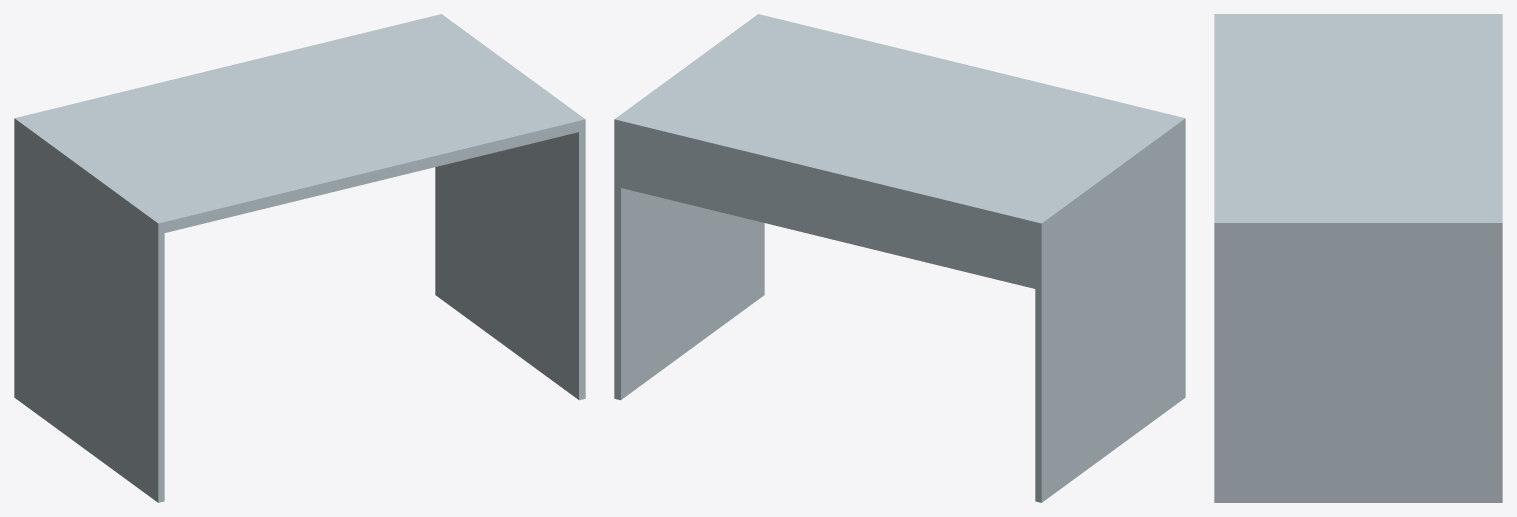
The model's file is assembly.glb.
The picture shows the model from 3 angles, left to right: view 1: azimuth 30°, elevation 25°; view 2: azimuth 150°, elevation 25°; view 3: azimuth 270°, elevation 25°; orthographic projection.
Parts seen in each view (by area): view 1: sobre, lateral_izquierdo, lateral_derecho; view 2: sobre, lateral_izquierdo, faldon_posterior, lateral_derecho; view 3: lateral_derecho, sobre.
Boxes of the visible parts, x1=… form: sobre: x1=14, y1=14, x2=585, y2=234; lateral_izquierdo: x1=14, y1=129, x2=164, y2=502; lateral_derecho: x1=435, y1=130, x2=585, y2=400; sobre: x1=614, y1=14, x2=1185, y2=234; lateral_izquierdo: x1=1035, y1=129, x2=1185, y2=502; faldon_posterior: x1=621, y1=132, x2=1035, y2=288; lateral_derecho: x1=614, y1=130, x2=764, y2=400; lateral_derecho: x1=1214, y1=234, x2=1502, y2=502; sobre: x1=1214, y1=14, x2=1502, y2=233.
Size of the model in its own units: 1.2 by 0.75 by 0.7.
